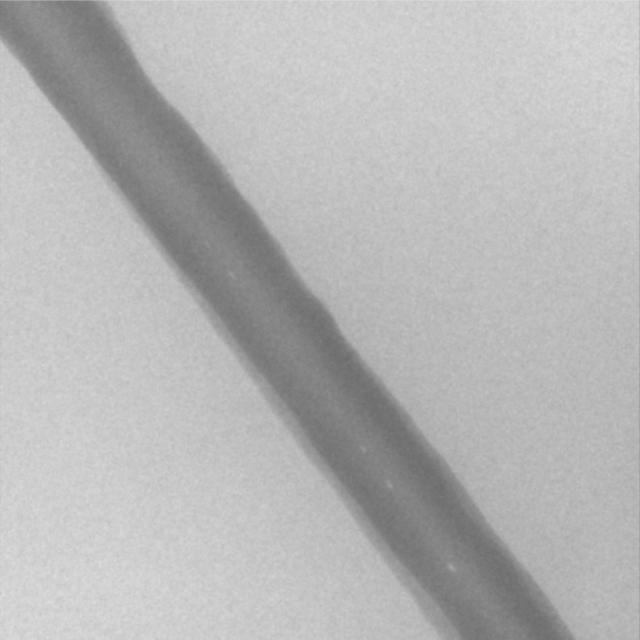air hole: (383, 478, 395, 490), (447, 562, 457, 573)
